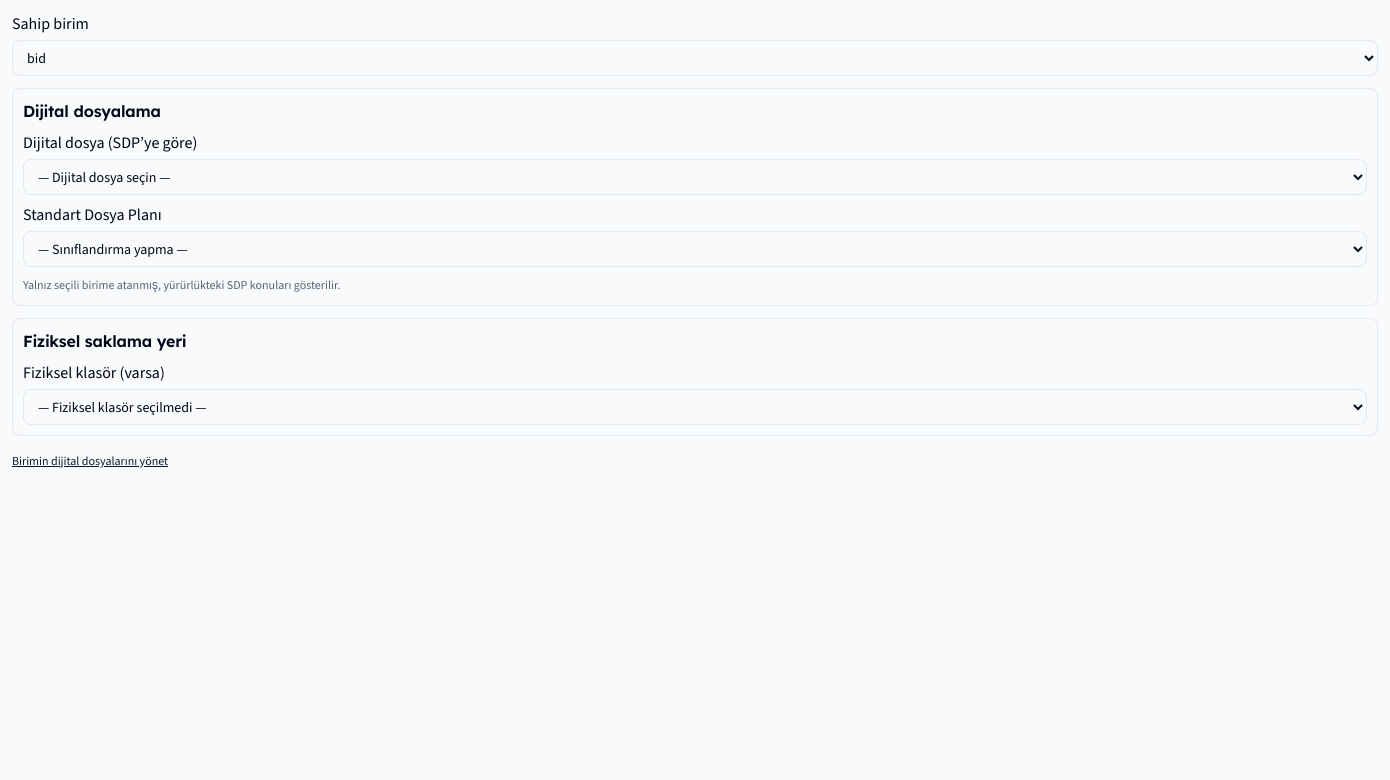
Test case: mevcut dijital dosya bağlantısını açıklarken fiziksel konumu korur
The image size is (1390, 780).
Select "physical-bid · physical-bid · D02-R03" in the dropdown labelled "Fiziksel klasör (varsa)" at [695, 407], box [23,389,1367,425]
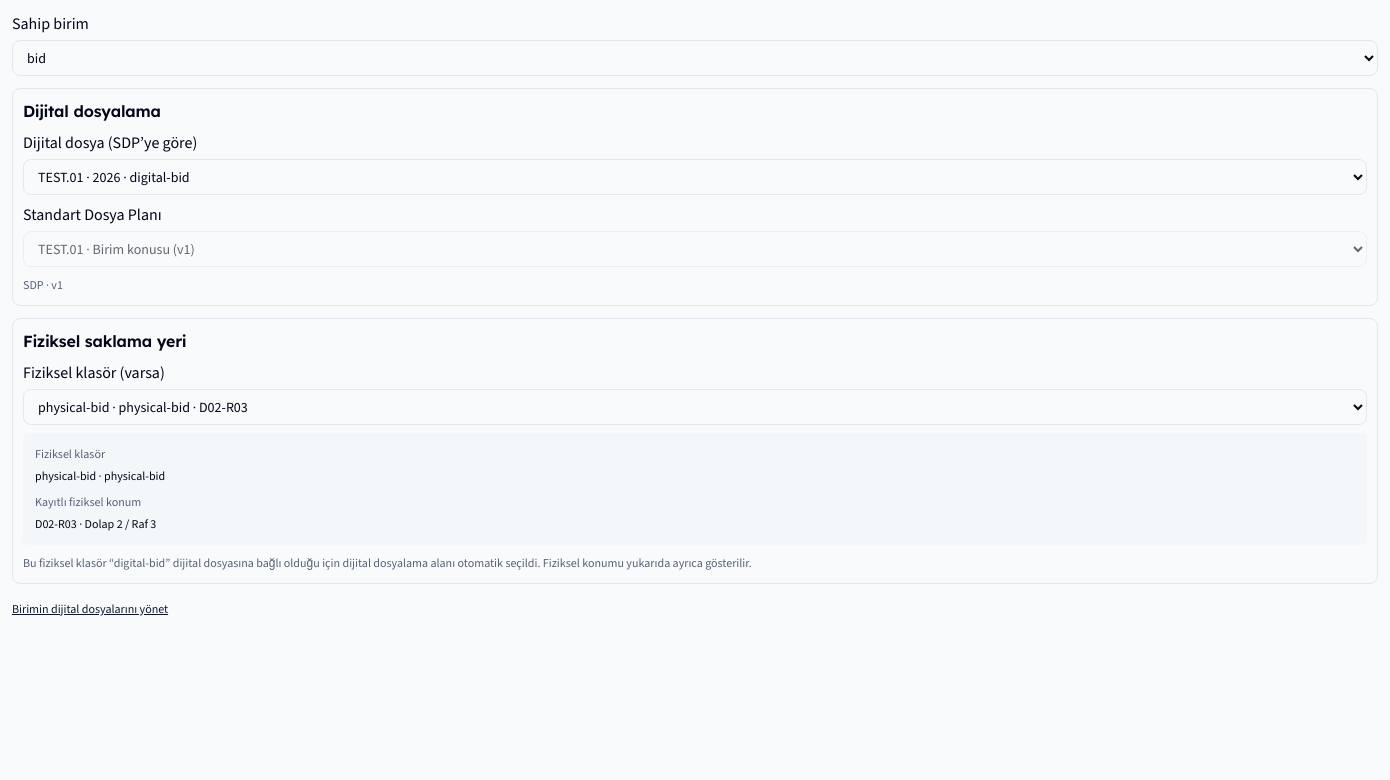
Check: the dropdown labelled "Dijital dosya (SDP’ye göre)" shows "TEST.01 · 2026 · digital-bid", box [23,159,1367,195]
Check: the message shows "otomatik seçildi", box [165,555,752,571]
Check: the text "D02-R03 · Dolap 2 / Raf 3" is shown, box [35,516,156,532]
